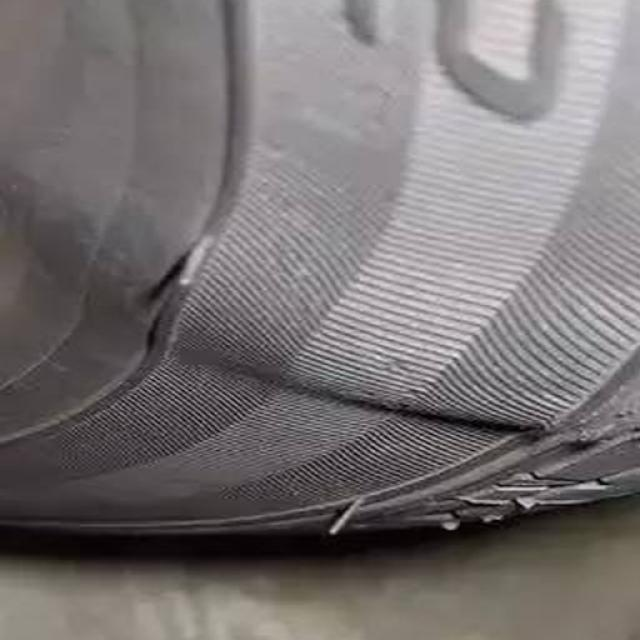Bulge: (104, 182, 639, 446)
